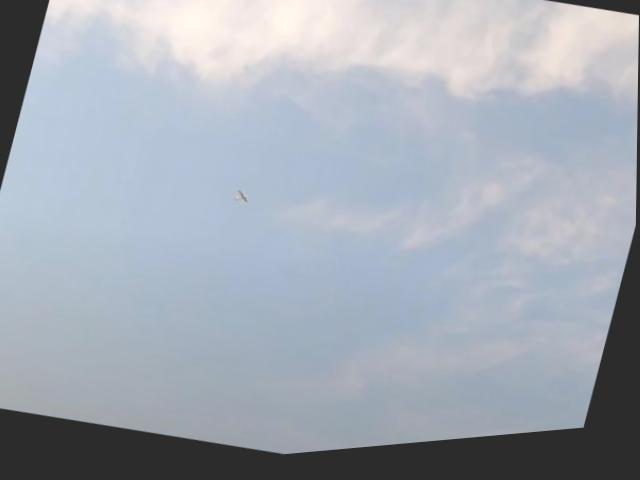iha: (235, 193, 251, 209)
